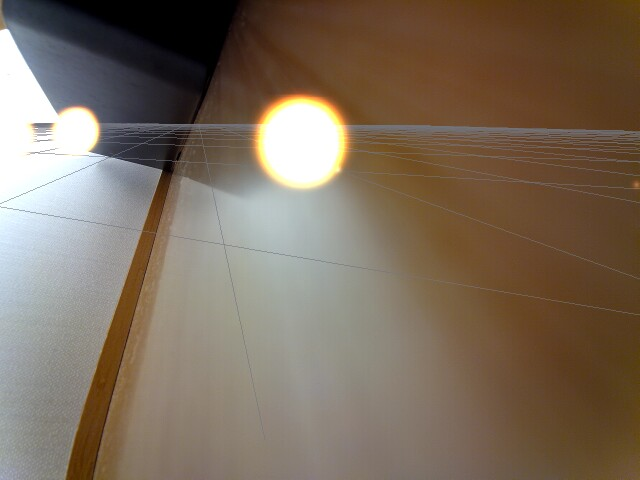firebig: (243, 87, 350, 219)
